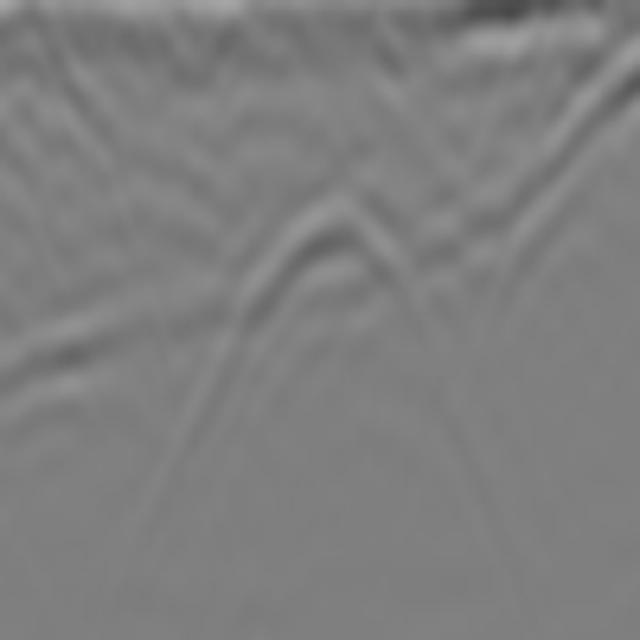hyperbola: (208, 183, 429, 410)
